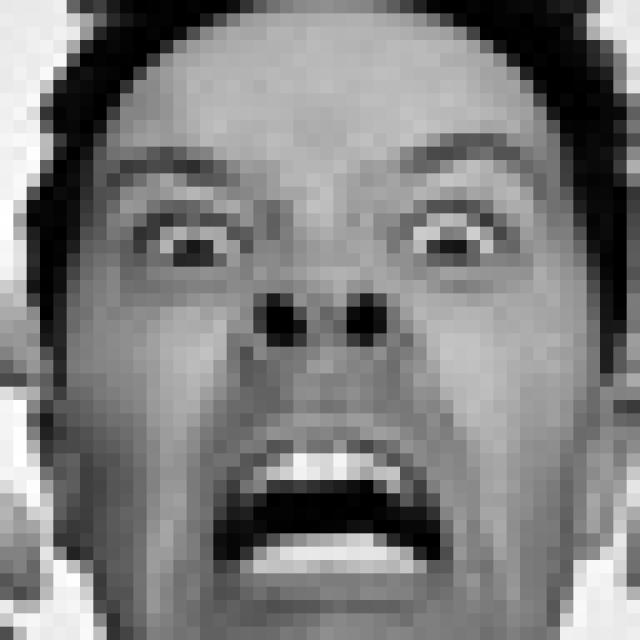angry: (96, 133, 555, 602)
